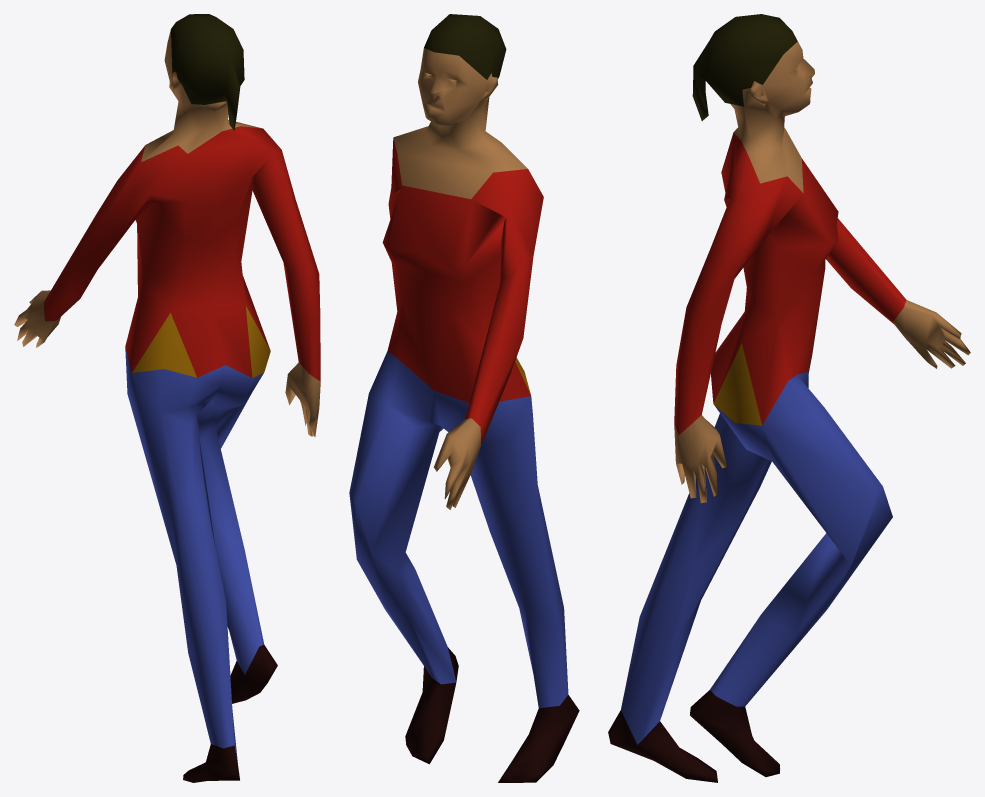
The model's file is personlowpoly_000004.obj.
The picture shows the model from 3 angles, left to right: view 1: azimuth 30°, elevation 25°; view 2: azimuth 150°, elevation 25°; view 3: azimuth 270°, elevation 25°; orthographic projection. The views are drawn at different scales.
Parts seen in each view (by area): view 1: Cube; view 2: Cube; view 3: Cube.
Boxes of the visible parts, x1,y1,x2,y2 form: Cube: (14, 14, 320, 782); Cube: (349, 14, 579, 782); Cube: (608, 14, 970, 782).
Size of the model in its own units: 24.66 by 94.42 by 40.11.
